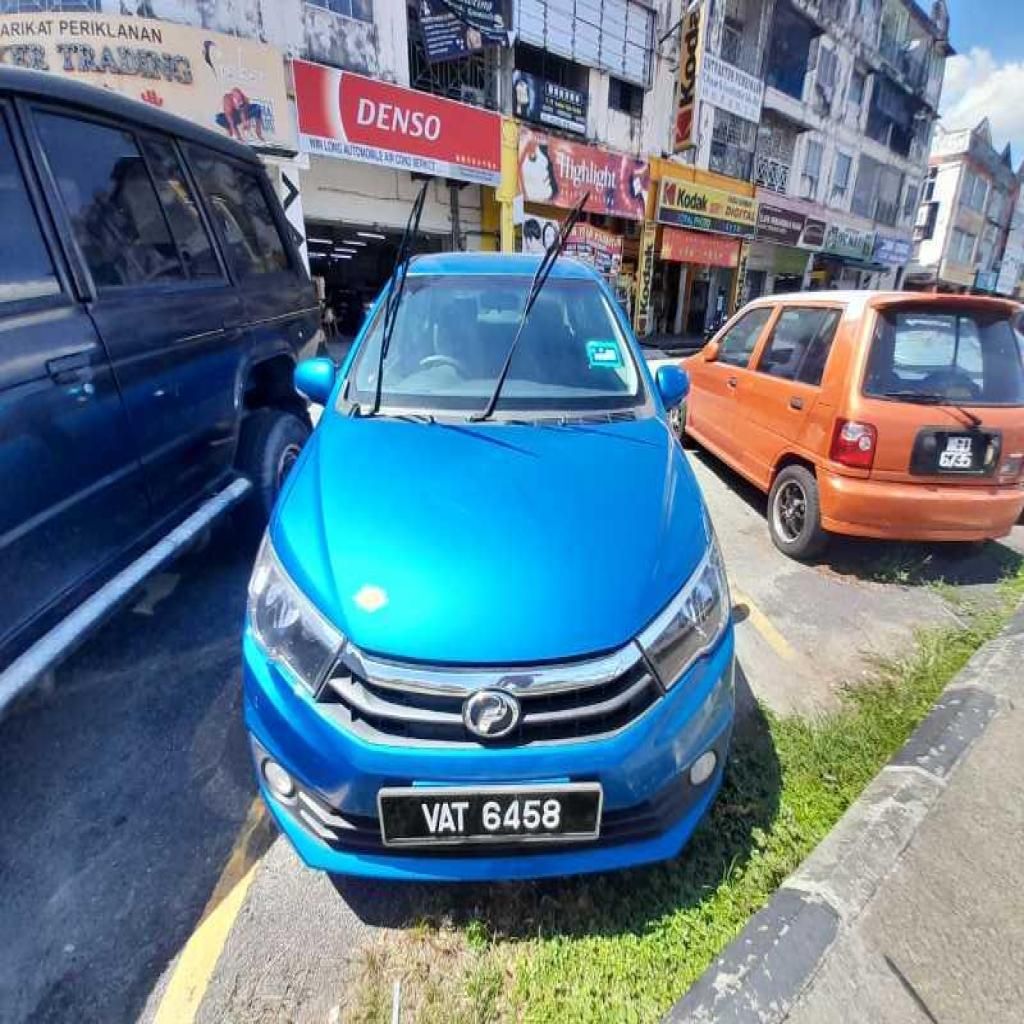car: (242, 253, 731, 877)
car plate: (378, 782, 600, 843)
